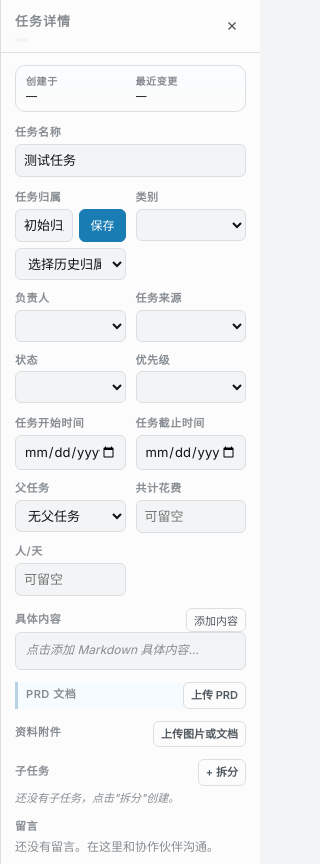
Test: DetailPanel task belonging › serializes rapid changes so a failed earlier save cannot overwrite the later value
This screenshot has width=320, height=864.
Replace the text in the field with test id "task-belonging-input" with "第一次归属" at (44, 226), box [15,209,74,242]
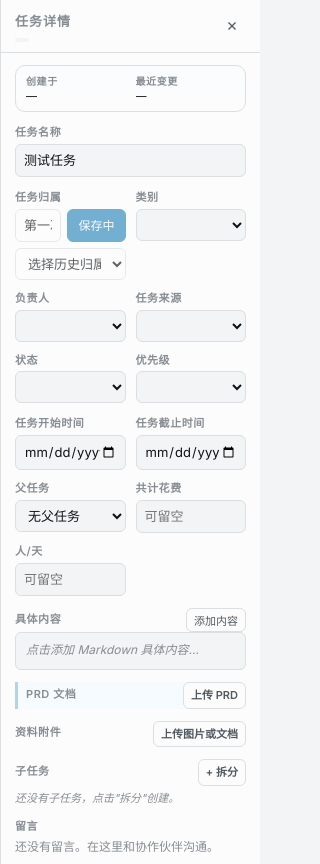
Result: the field with test id "task-belonging-input" is disabled
Replace the text in the field with test id "task-belonging-input" with "第二次归属" at (38, 226), box [15,209,62,242]
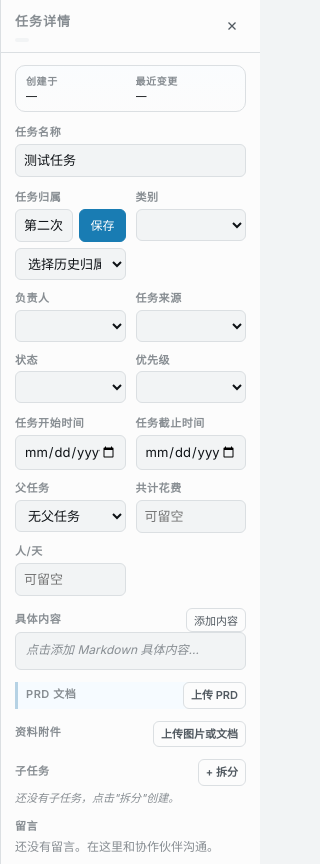
Result: the field with test id "task-belonging-input" is enabled at [15,209,74,242]
